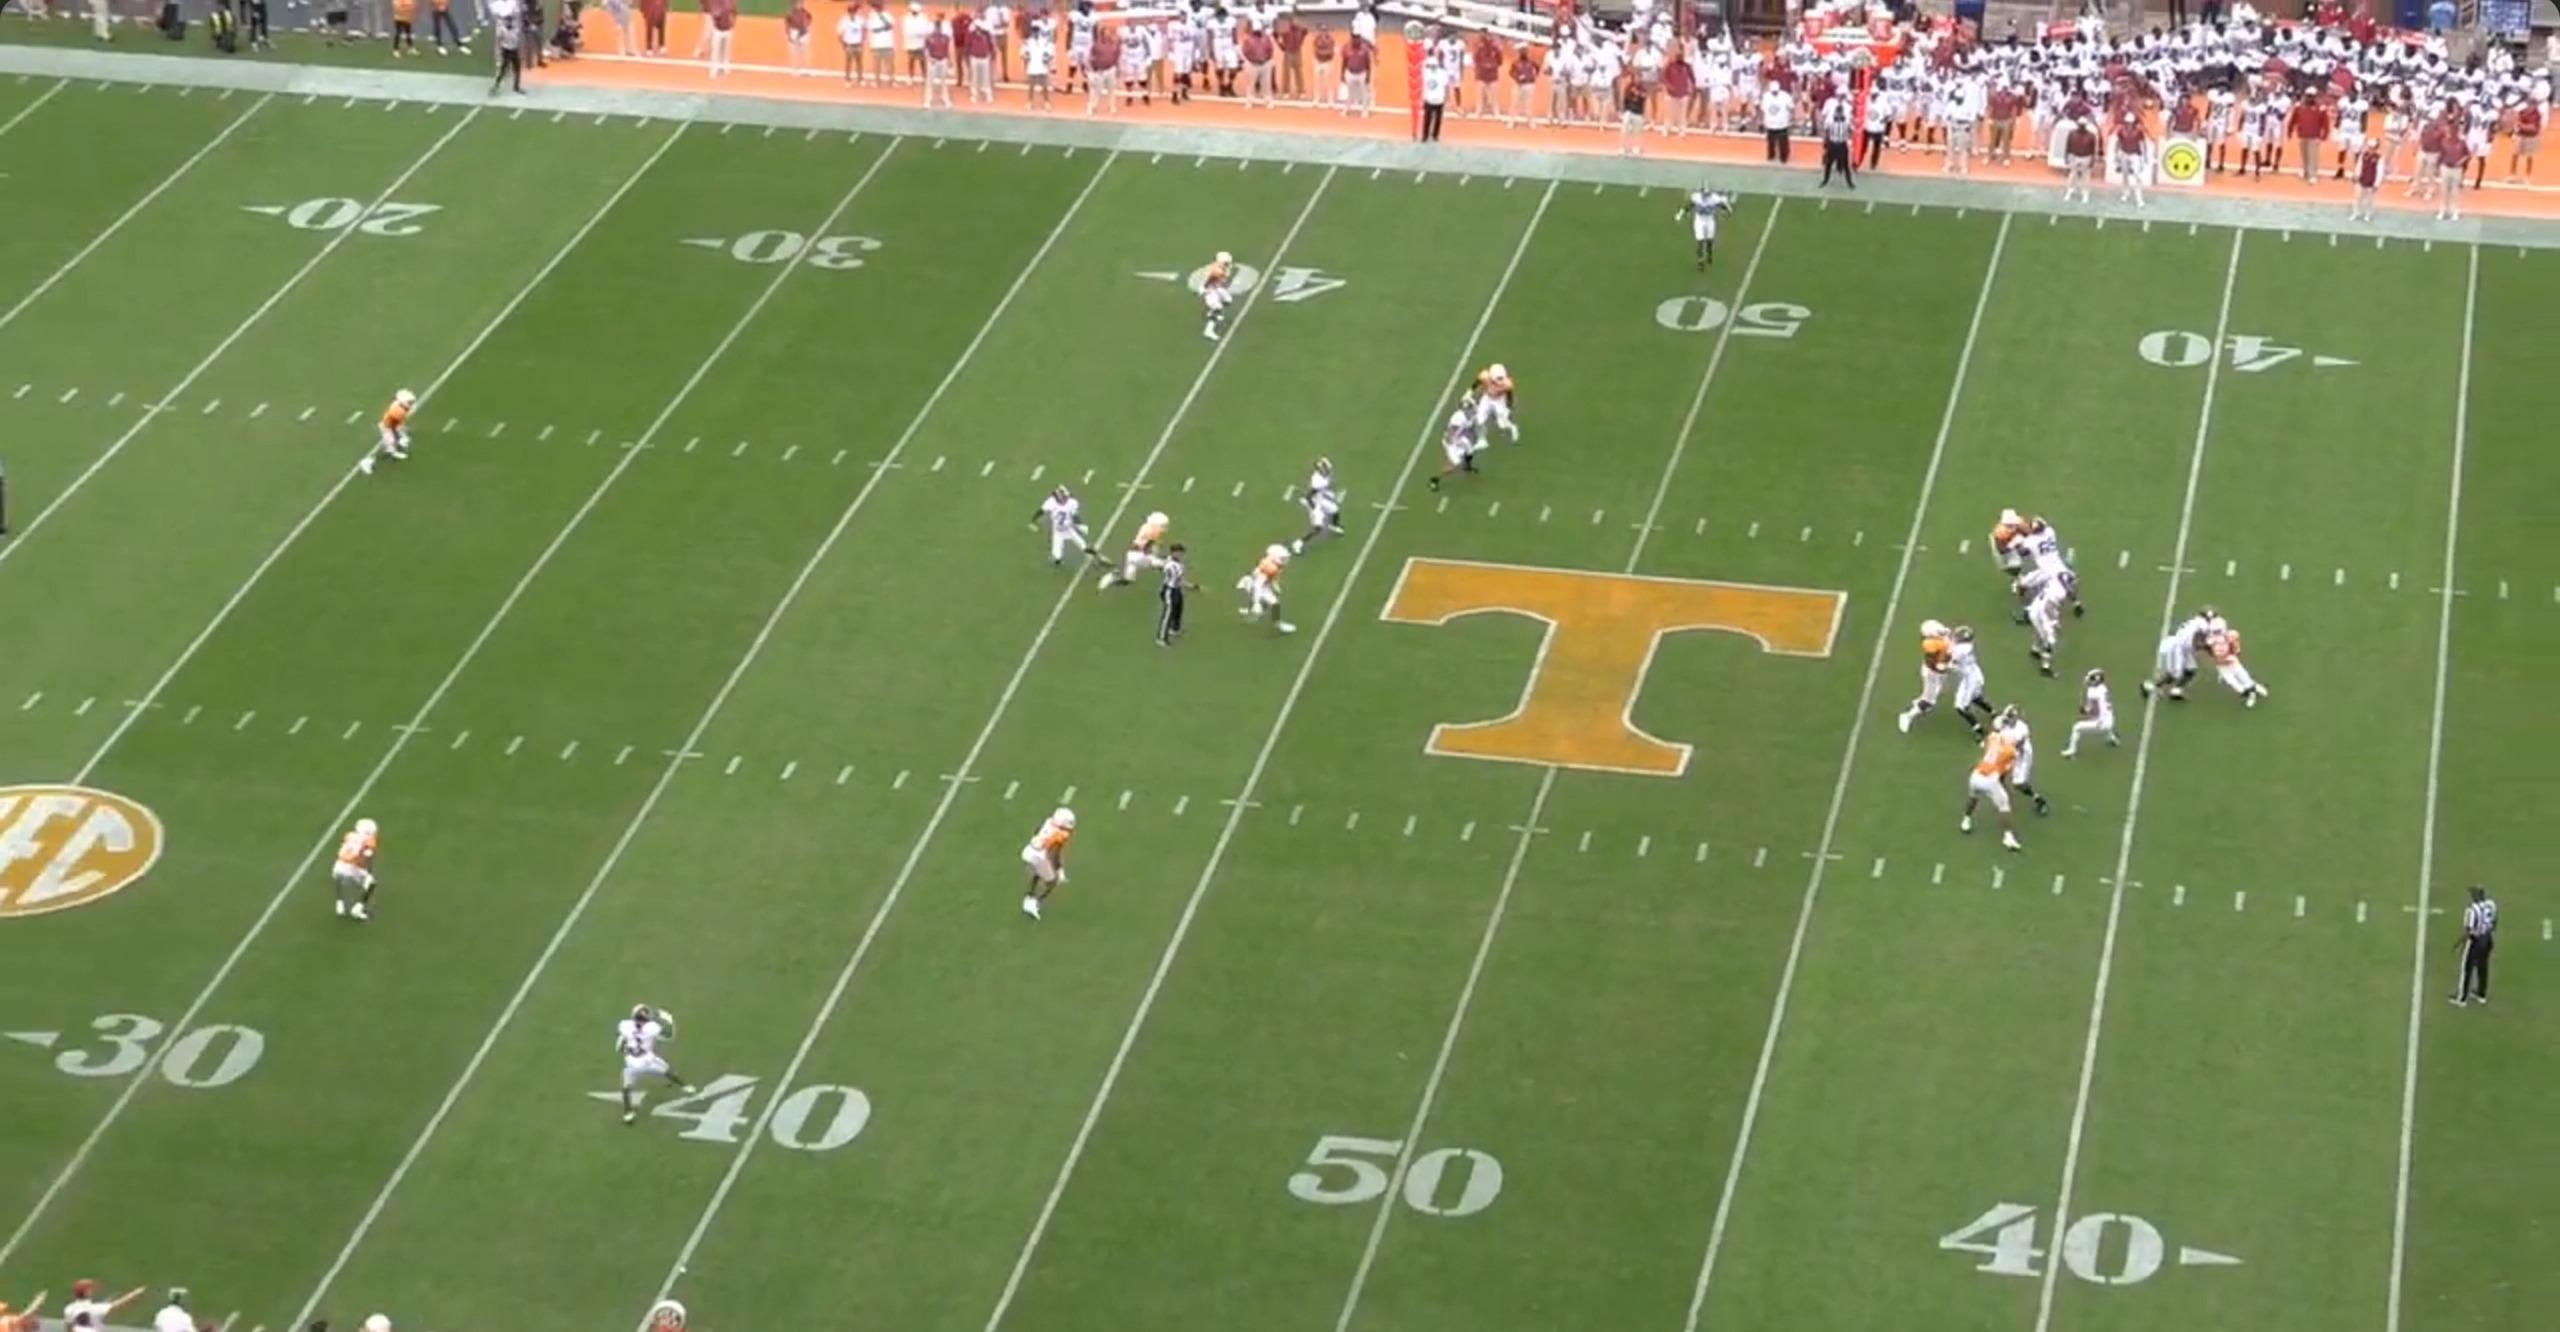player: (605, 1001, 700, 1124), (2006, 513, 2087, 624), (1959, 735, 2029, 858), (2128, 608, 2208, 711), (1019, 802, 1083, 928), (2207, 616, 2281, 723), (1891, 620, 1957, 739), (1984, 707, 2051, 819), (1093, 508, 1177, 594), (1025, 481, 1100, 571), (1243, 536, 1309, 636), (2055, 666, 2120, 763), (1945, 631, 2002, 741), (328, 810, 384, 921), (351, 386, 419, 477), (2025, 565, 2078, 681), (1670, 180, 1732, 277), (1294, 459, 1354, 559), (1424, 406, 1482, 499), (1474, 361, 1528, 453), (1195, 248, 1243, 342), (1988, 508, 2030, 595)
ref: (2453, 883, 2509, 1016), (1806, 98, 1861, 198), (1157, 546, 1205, 658), (480, 8, 530, 104)
